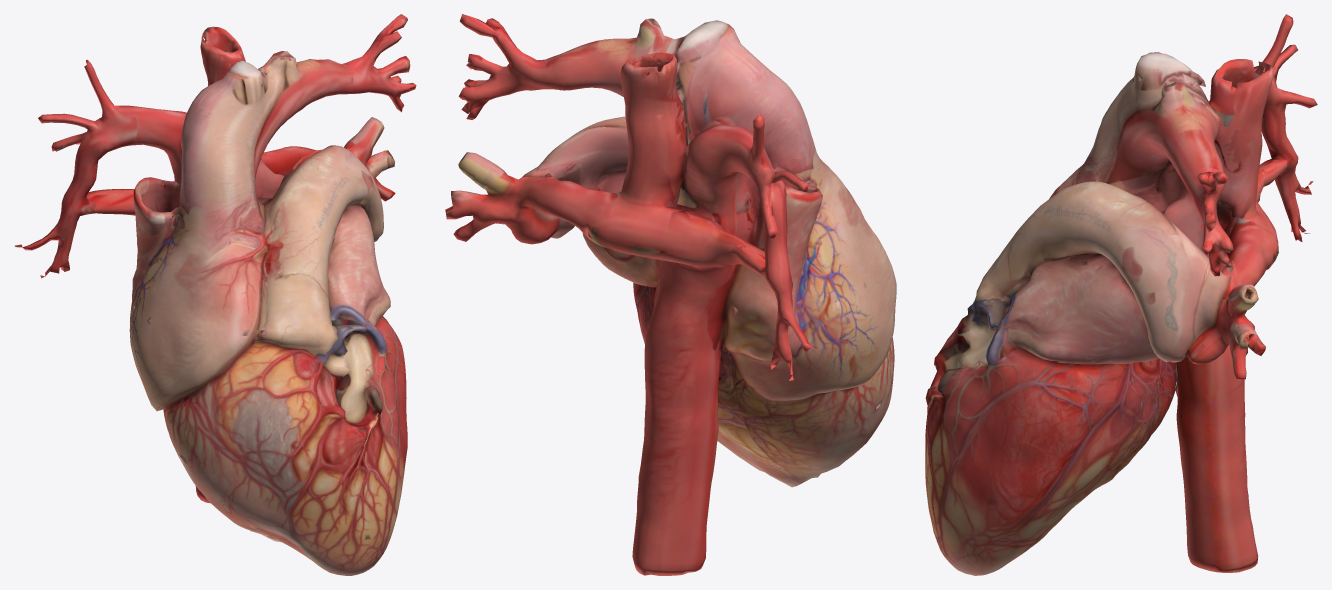
File: stenosisOperationHeart.glb
3 views of the same model, side by side, from view 1: azimuth 30°, elevation 25°; view 2: azimuth 150°, elevation 25°; view 3: azimuth 270°, elevation 25° (orthographic). The views are drawn at different scales.
Parts seen in each view (by area): view 1: stenosisOperationHeart; view 2: stenosisOperationHeart; view 3: stenosisOperationHeart.
Part boxes in pixels (x1,y1,x2,y2): stenosisOperationHeart: (15, 14, 416, 575); stenosisOperationHeart: (445, 14, 896, 575); stenosisOperationHeart: (925, 14, 1317, 575).
Bounding box in the file's own units: 1.65 × 2 × 1.43.
1 material, 1 textured.
